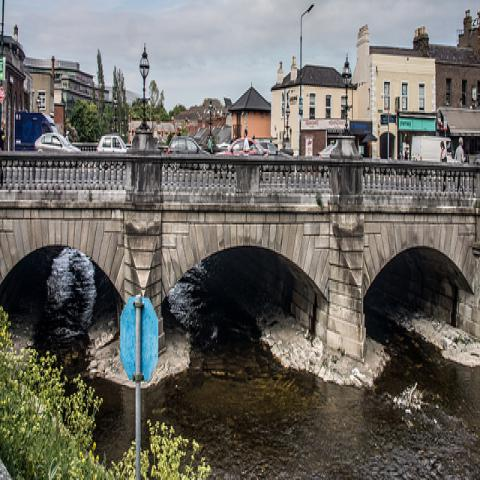car: (216, 136, 269, 156), (35, 133, 81, 155), (168, 136, 210, 154), (96, 134, 130, 152), (258, 139, 291, 157), (316, 143, 334, 158)
truck: (15, 109, 59, 150), (411, 136, 468, 162)
